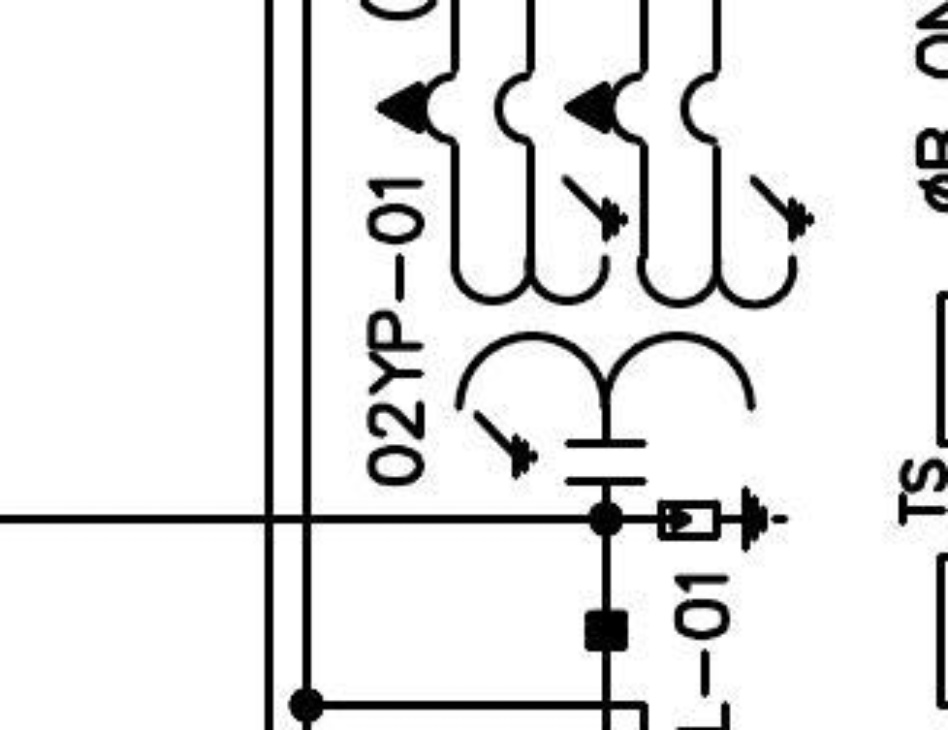115_cvt_1p: (373, 65, 818, 488)
115_la: (656, 484, 790, 554)
